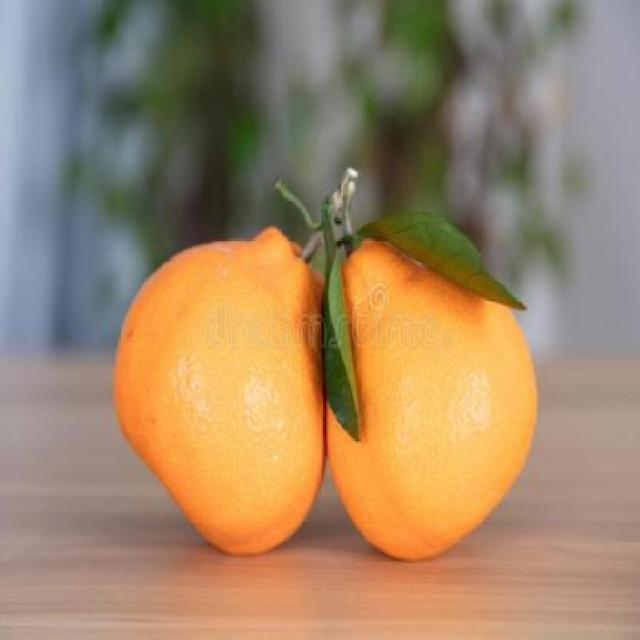Jeruk Sudah Matang: (326, 226, 537, 560), (116, 226, 329, 548)
